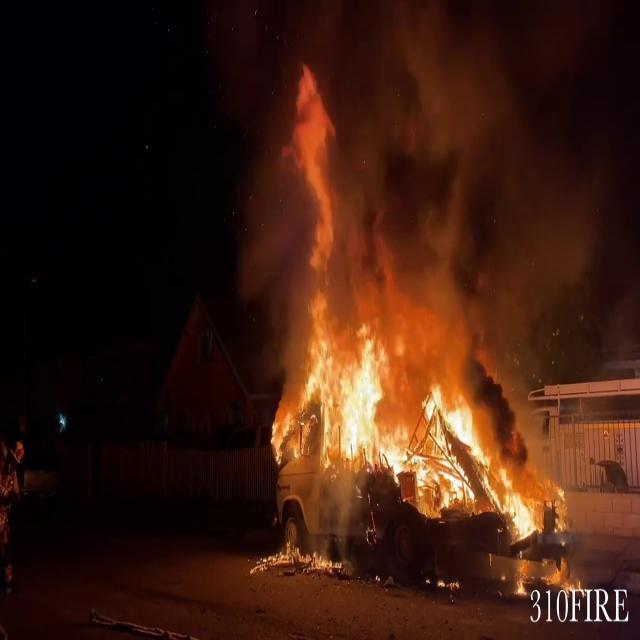Fire: (256, 321, 560, 535)
Smoke: (248, 0, 620, 328)
